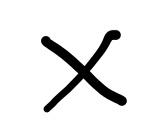mult: (41, 30, 126, 112)
